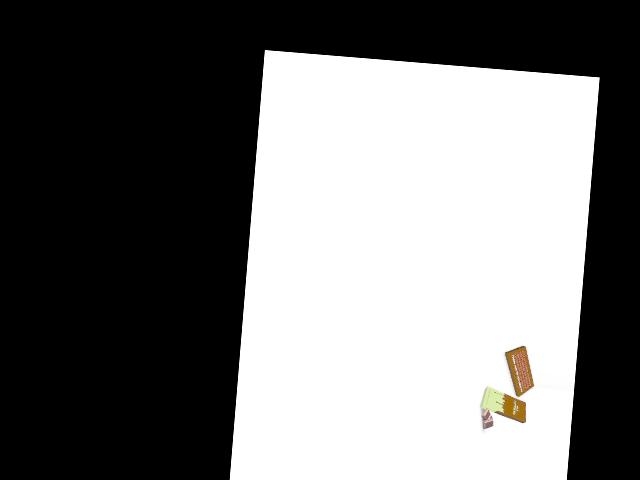chocolate: (478, 388, 529, 420)
